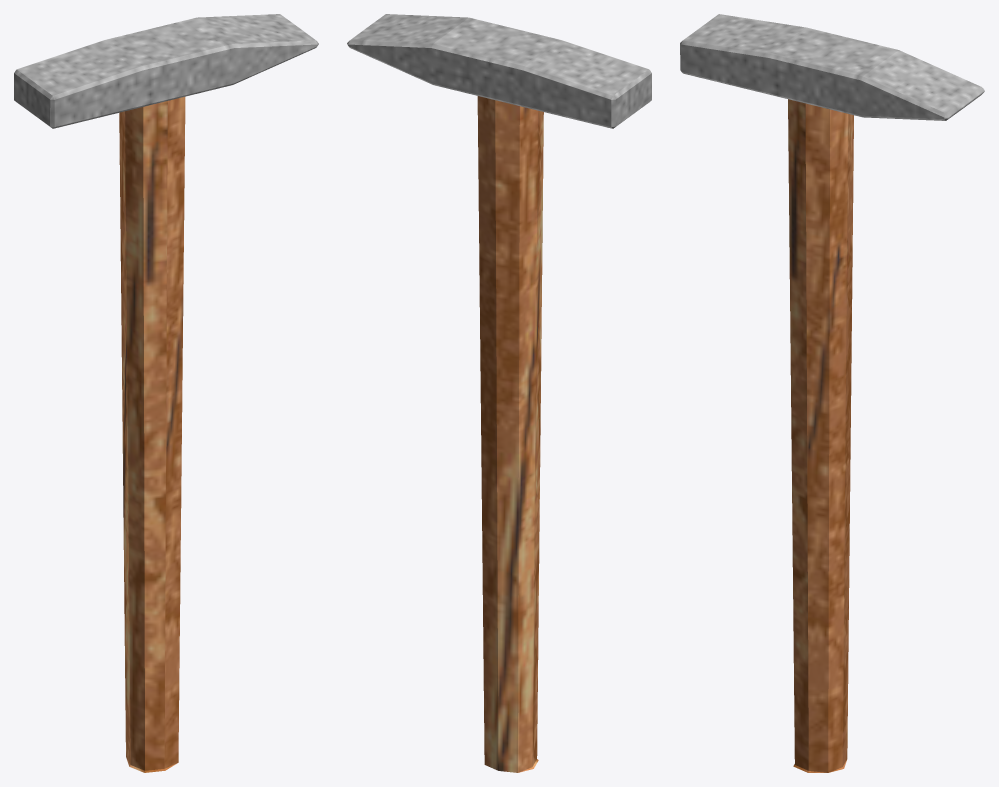
The model's file is MOLOT.fbx.
3 renders of one model, left to right at view 1: azimuth 30°, elevation 25°; view 2: azimuth 150°, elevation 25°; view 3: azimuth 330°, elevation 25°, orthographic.
Parts seen in each view (by area): view 1: Blacksmith_Tools_1; view 2: Blacksmith_Tools_1; view 3: Blacksmith_Tools_1.
Boxes of the visible parts, bbox=[...] form: Blacksmith_Tools_1: bbox=[14, 14, 318, 772]; Blacksmith_Tools_1: bbox=[347, 14, 651, 772]; Blacksmith_Tools_1: bbox=[680, 14, 984, 772].
Size of the model in its own units: 1890 by 4817 by 478.
Materials: 2 (2 with a texture image).
